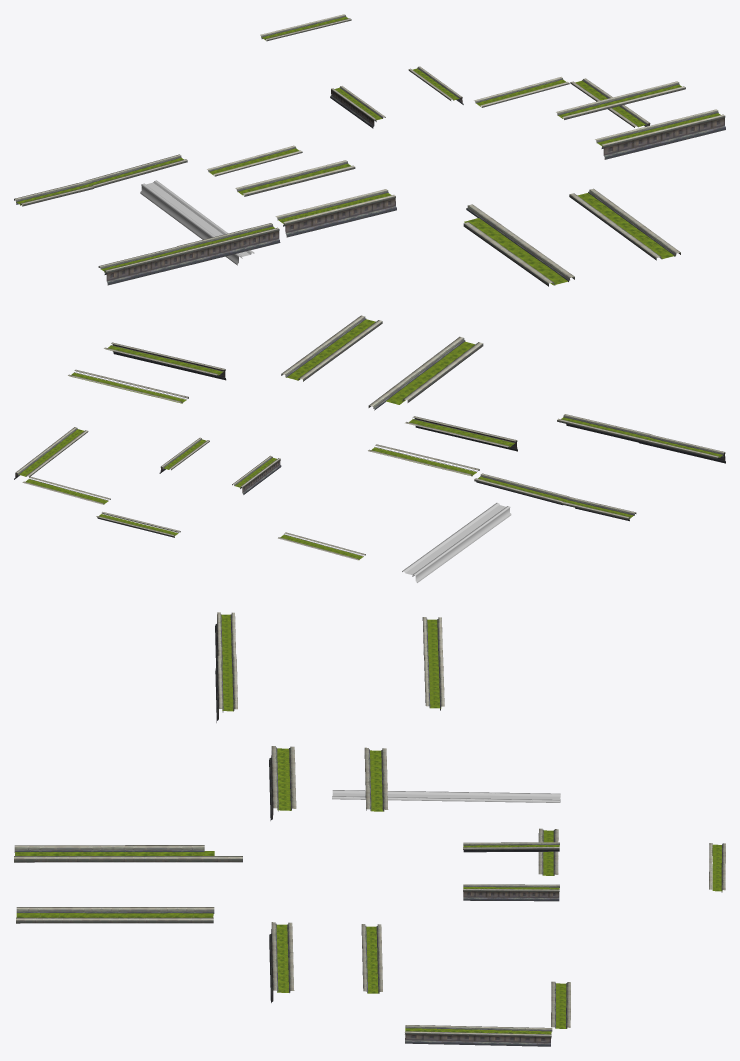
File: S_Build_City079_A.FBX
The picture shows the model from 3 angles, top to bottom: view 1: azimuth 30°, elevation 25°; view 2: azimuth 150°, elevation 25°; view 3: azimuth 270°, elevation 25°; orthographic projection. The views are drawn at different scales.
Parts seen in each view (by area): view 1: S_Build_City079_003, S_Build_City079_001, S_Build_City079_005, S_Build_City079_002, S_Build_City079_007, S_Build_City079_008, S_Build_City079_004, S_Build_City079_006, S_Build_City079_010, S_Build_City079_011, S_Build_City079_014, S_Build_City079_017 (+6 smaller); view 2: S_Build_City079_001, S_Build_City079_002, S_Build_City079_003, S_Build_City079_005, S_Build_City079_010, S_Build_City079_009, S_Build_City079_007, S_Build_City079_008, S_Build_City079_016, S_Build_City079_011, S_Build_City079_004, S_Build_City079_006 (+6 smaller); view 3: S_Build_City079_001, S_Build_City079_002, S_Build_City079_016, S_Build_City079_005, S_Build_City079_003, S_Build_City079_015, S_Build_City079_006, S_Build_City079_004, S_Build_City079_007, S_Build_City079_010, S_Build_City079_011, S_Build_City079_014 (+6 smaller).
Part boxes in pixels (<box>): S_Build_City079_003: <box>595,109,725,159</box>; S_Build_City079_001: <box>463,204,574,286</box>; S_Build_City079_005: <box>275,189,396,237</box>; S_Build_City079_002: <box>569,188,680,260</box>; S_Build_City079_007: <box>177,223,280,265</box>; S_Build_City079_008: <box>98,244,194,285</box>; S_Build_City079_004: <box>556,81,685,119</box>; S_Build_City079_006: <box>235,160,355,196</box>; S_Build_City079_010: <box>140,180,205,229</box>; S_Build_City079_011: <box>86,154,187,188</box>; S_Build_City079_014: <box>330,86,385,128</box>; S_Build_City079_017: <box>474,77,569,107</box>; S_Build_City079_001: <box>368,336,483,410</box>; S_Build_City079_002: <box>281,315,382,381</box>; S_Build_City079_003: <box>104,342,226,380</box>; S_Build_City079_005: <box>405,416,517,451</box>; S_Build_City079_010: <box>402,537,464,582</box>; S_Build_City079_009: <box>450,503,511,548</box>; S_Build_City079_007: <box>557,414,652,442</box>; S_Build_City079_008: <box>636,432,725,463</box>; S_Build_City079_016: <box>14,427,88,479</box>; S_Build_City079_011: <box>474,473,569,505</box>; S_Build_City079_004: <box>68,369,188,403</box>; S_Build_City079_006: <box>368,444,479,476</box>; S_Build_City079_001: <box>14,845,242,862</box>; S_Build_City079_002: <box>16,907,214,923</box>; S_Build_City079_016: <box>405,1025,552,1046</box>; S_Build_City079_005: <box>269,746,296,820</box>; S_Build_City079_003: <box>269,922,294,1002</box>; S_Build_City079_015: <box>463,884,559,901</box>; S_Build_City079_006: <box>364,747,388,811</box>; S_Build_City079_004: <box>361,924,382,993</box>; S_Build_City079_007: <box>215,656,237,722</box>; S_Build_City079_010: <box>445,791,560,802</box>; S_Build_City079_011: <box>424,656,444,710</box>; S_Build_City079_014: <box>463,842,559,852</box>.
Size of the model in its own units: 15690 by 13235 by 1853.
